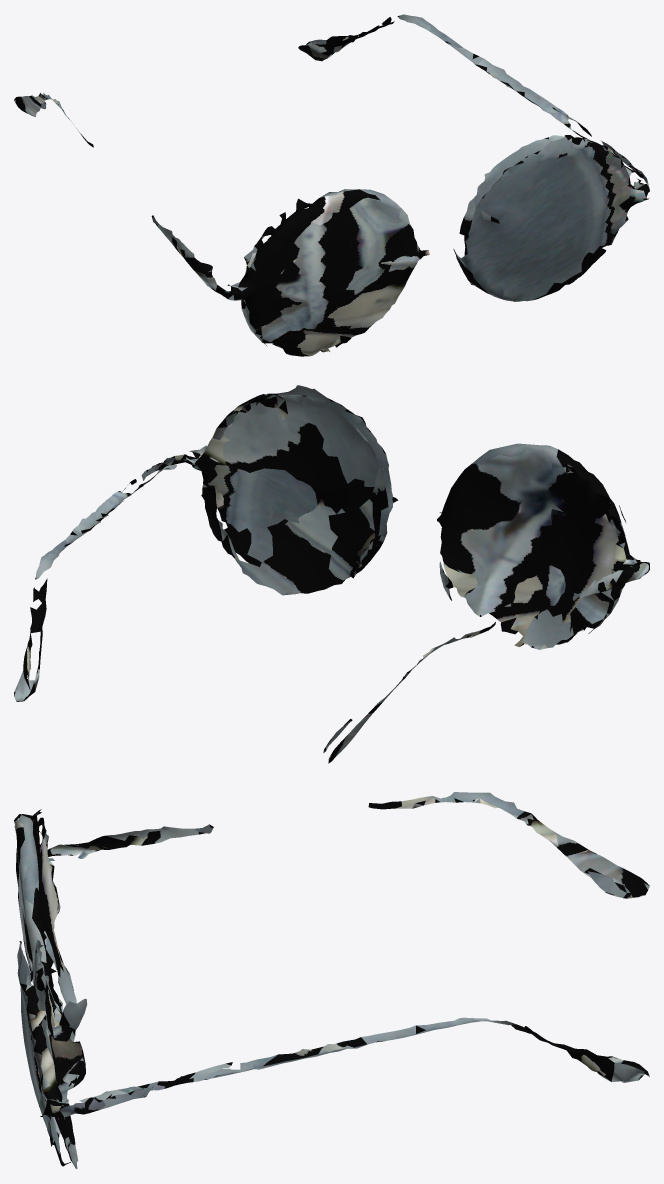
Rendered from scan_align.obj.
3 views of the same model, one above another, from view 1: azimuth 30°, elevation 25°; view 2: azimuth 150°, elevation 25°; view 3: azimuth 270°, elevation 25° (orthographic). The views are drawn at different scales.
Size of the model in its own units: 0.137 by 0.0523 by 0.1431.
